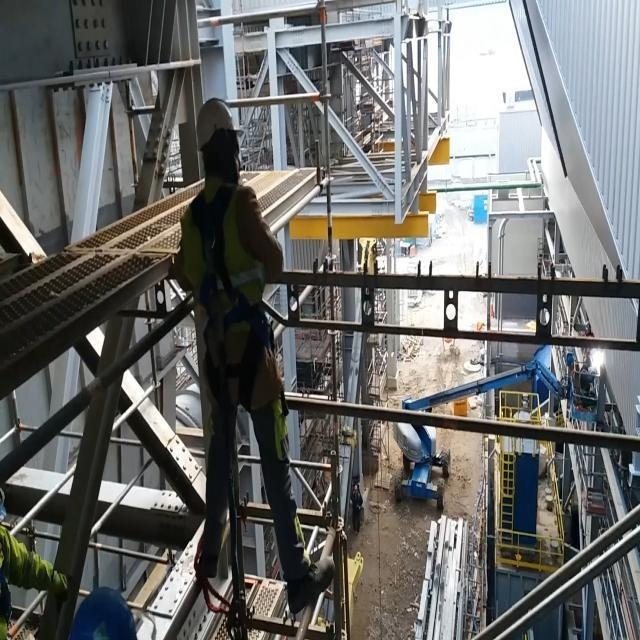Arnes_seguridad: (175, 173, 278, 420)
